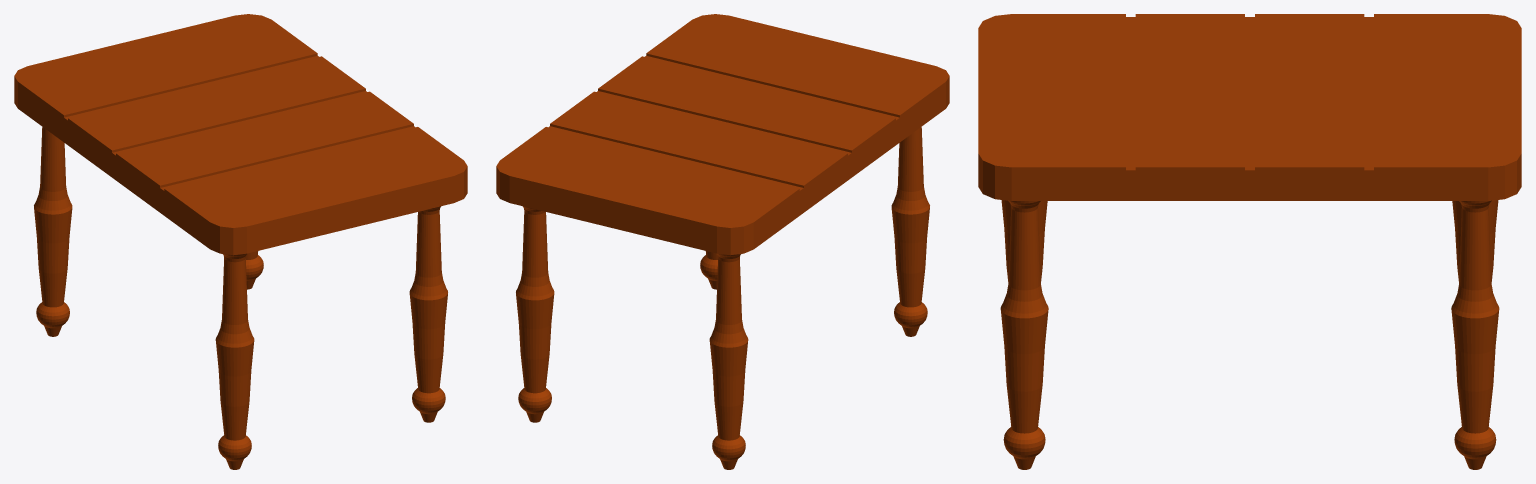
The model's file is Table.gltf.
3 renders of one model, left to right at view 1: azimuth 30°, elevation 25°; view 2: azimuth 150°, elevation 25°; view 3: azimuth 270°, elevation 25°, orthographic. The views are drawn at different scales.
Parts seen in each view (by area): view 1: table; view 2: table; view 3: table.
Boxes of the visible parts, box(x1,y1,x2,y2) form: table: box(14, 14, 467, 469); table: box(496, 14, 949, 469); table: box(978, 14, 1521, 469).
Bounding box in the file's own units: 3 × 2.9 × 4.49.
